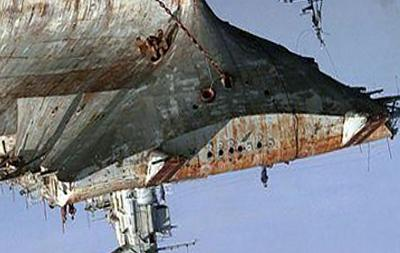rust: (154, 122, 398, 182), (7, 58, 171, 100), (134, 26, 193, 71)
